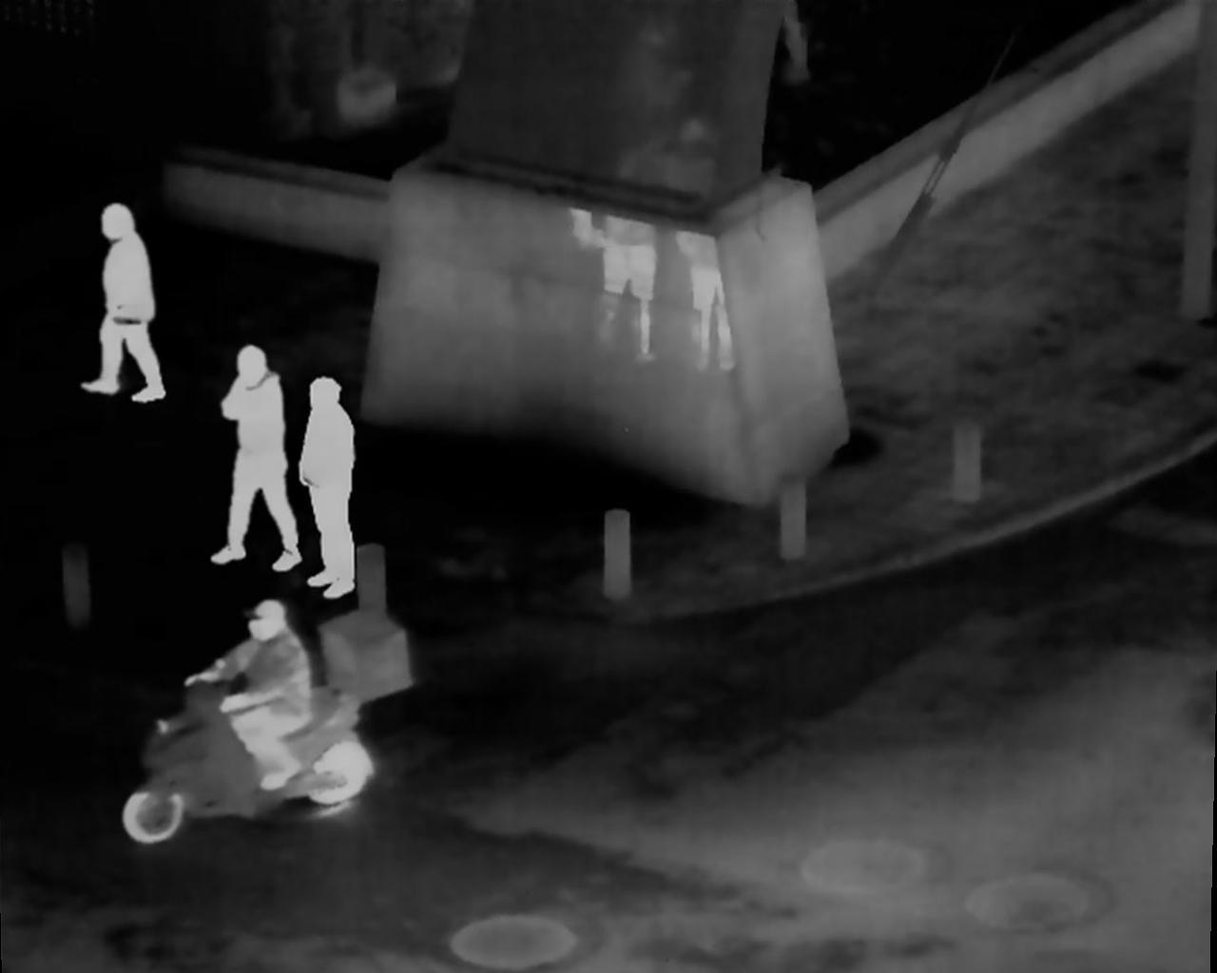person: (193, 597, 313, 785), (222, 348, 297, 576), (89, 199, 169, 402), (302, 379, 357, 599)
